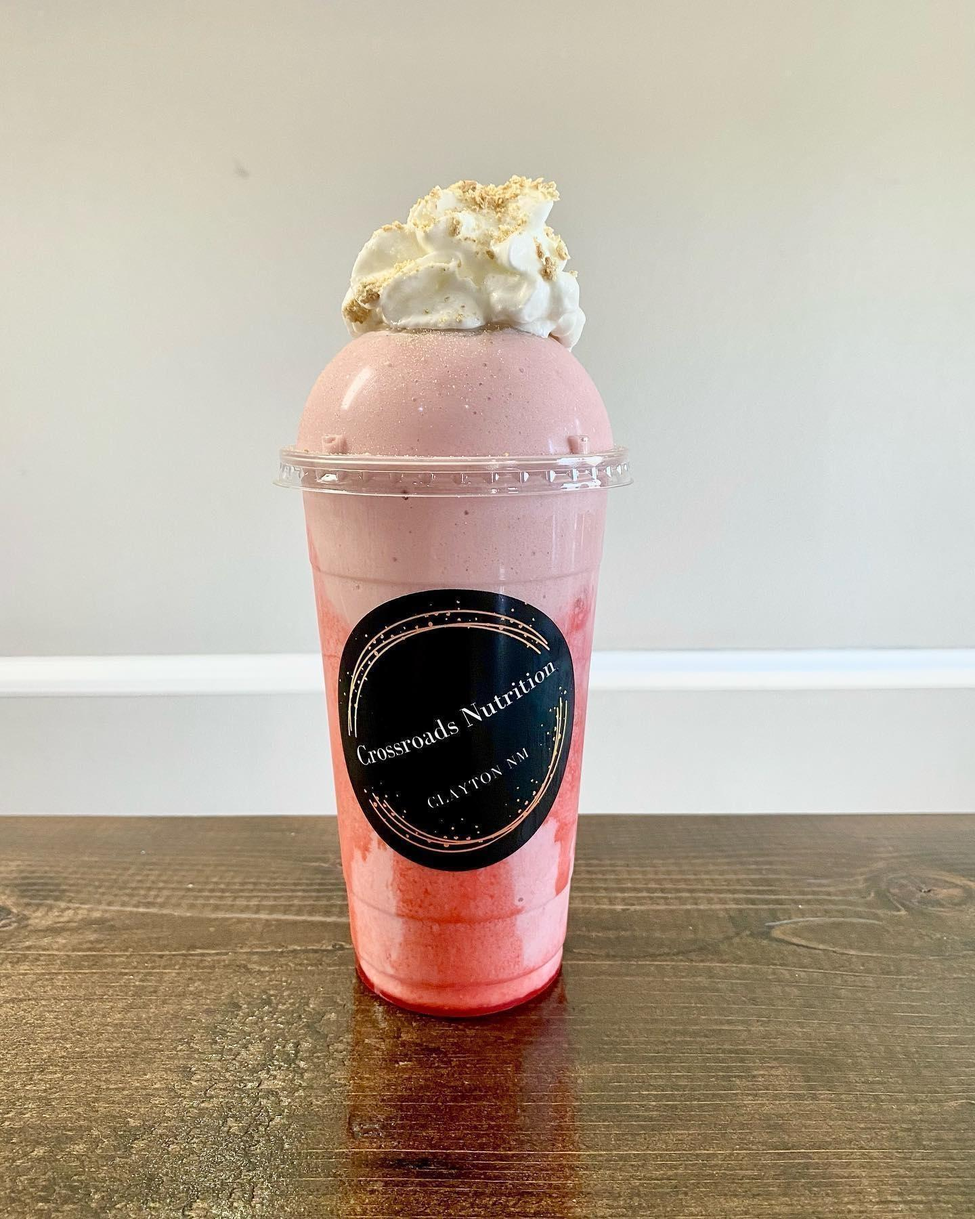cup-disposable: (282, 299, 621, 1013)
